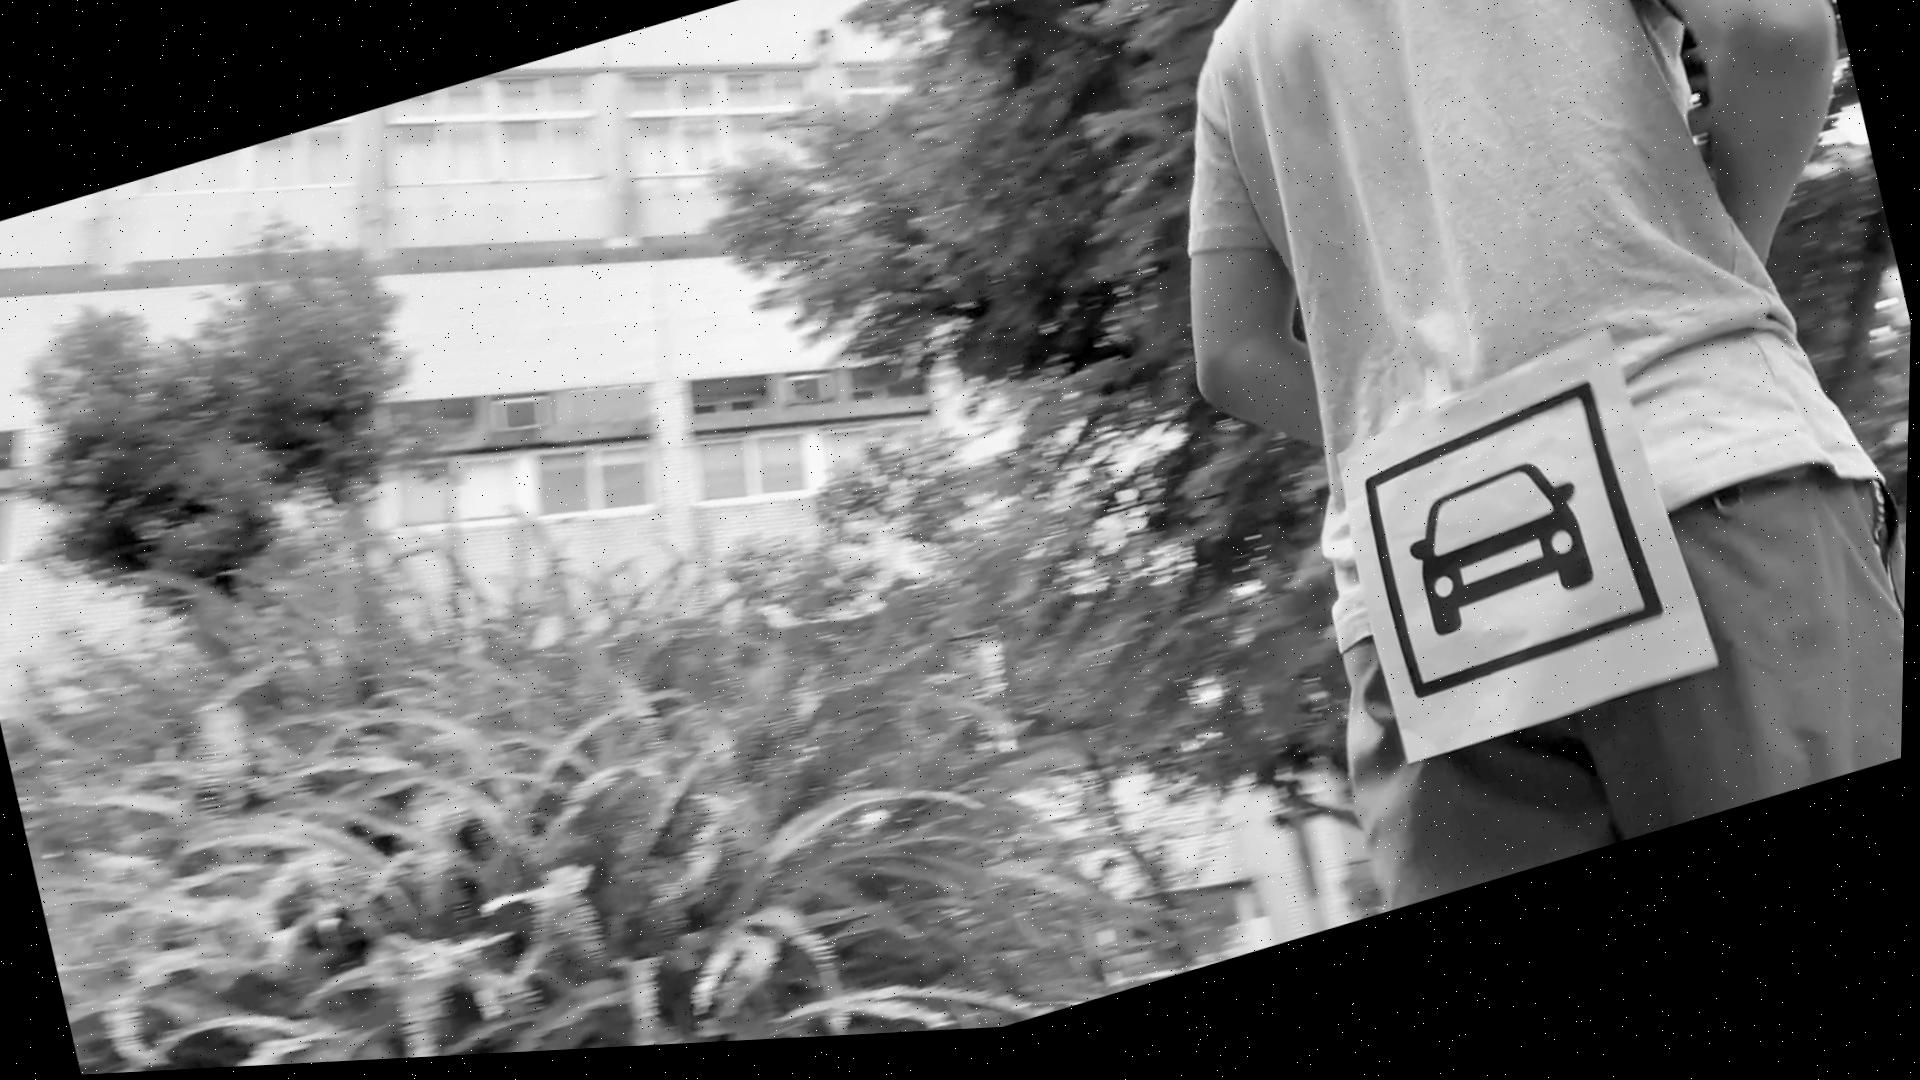car_img: (1350, 388, 1677, 720)
